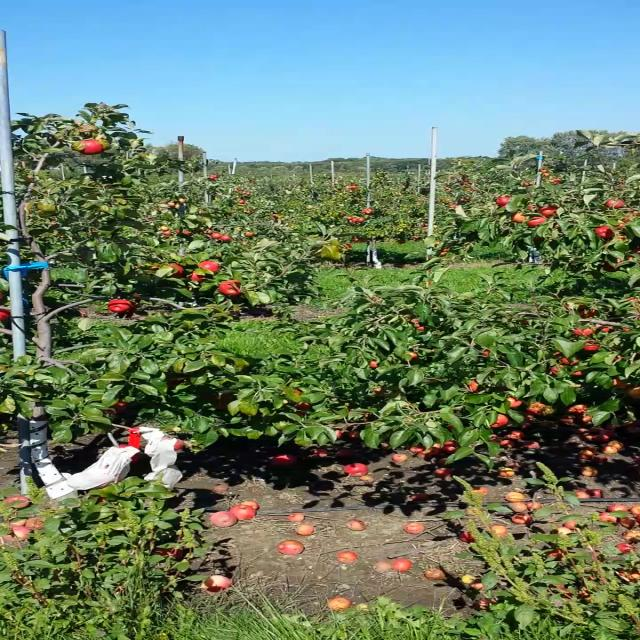apple: (213, 392, 234, 410), (101, 400, 127, 414), (567, 400, 589, 415), (166, 263, 185, 279), (78, 141, 103, 153), (108, 299, 132, 311), (221, 280, 239, 296), (137, 264, 159, 275), (528, 401, 548, 413), (199, 261, 218, 273), (580, 304, 596, 318), (573, 327, 595, 337), (294, 402, 312, 414), (492, 414, 508, 426), (526, 216, 545, 226), (594, 227, 612, 237), (524, 202, 542, 212), (614, 379, 631, 389), (550, 364, 566, 374), (578, 413, 594, 423), (605, 198, 624, 206), (512, 212, 527, 222), (507, 396, 521, 406), (628, 386, 639, 398), (173, 439, 184, 451), (471, 379, 481, 392), (584, 342, 599, 350), (497, 197, 510, 205), (332, 429, 342, 439), (1, 310, 10, 321), (542, 207, 556, 214), (574, 369, 588, 375), (191, 271, 199, 281), (598, 326, 609, 332), (370, 360, 378, 366), (410, 352, 418, 357), (415, 326, 425, 330), (572, 360, 580, 364), (483, 349, 488, 355), (562, 358, 567, 362), (622, 328, 630, 330)
